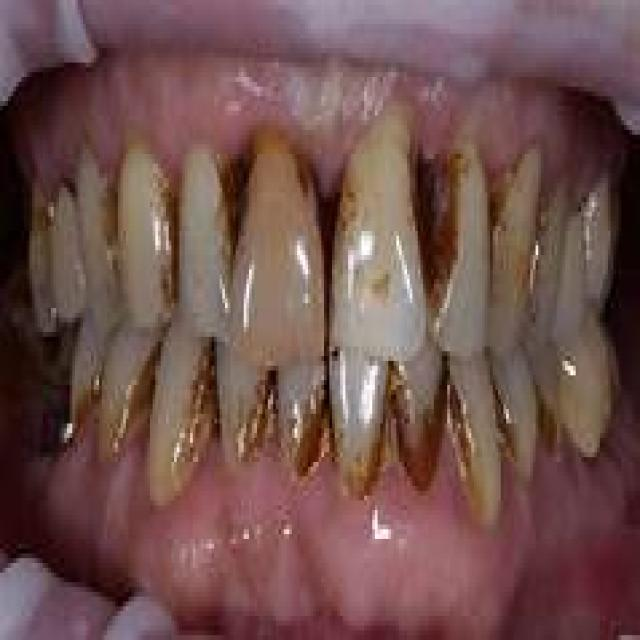calculus: (389, 116, 463, 310), (444, 355, 517, 530), (361, 386, 451, 524), (282, 126, 349, 299), (203, 137, 260, 270), (574, 345, 628, 475), (178, 345, 224, 485), (473, 154, 523, 282), (293, 382, 343, 507), (94, 124, 134, 280), (156, 164, 193, 311), (237, 359, 281, 476), (117, 344, 158, 458), (569, 174, 608, 289), (518, 378, 566, 471), (524, 184, 560, 307), (59, 349, 111, 429), (22, 178, 80, 245)
